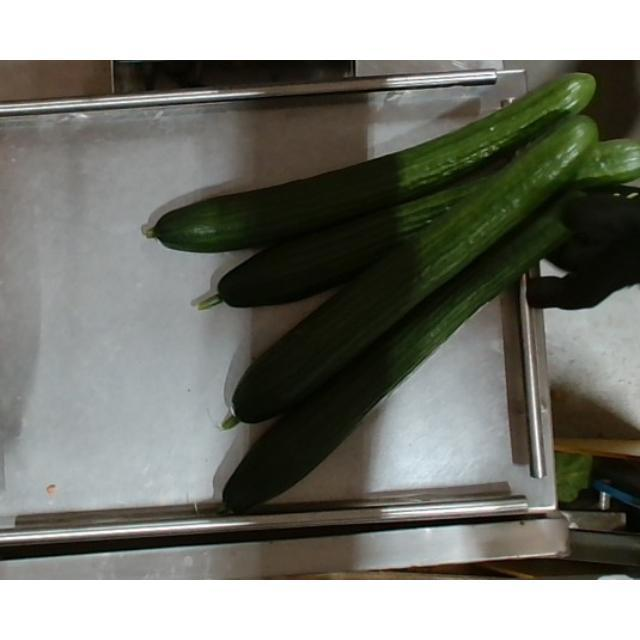cucumber: (216, 188, 594, 518), (224, 115, 596, 433), (145, 71, 597, 253), (196, 138, 640, 310)
